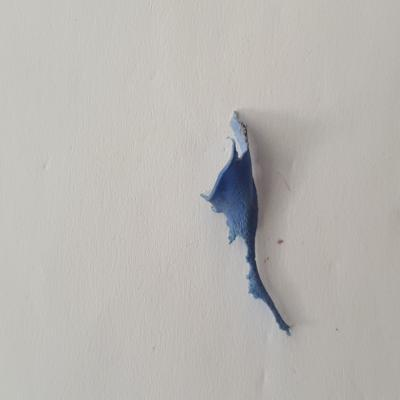plastic: (196, 106, 306, 343)
